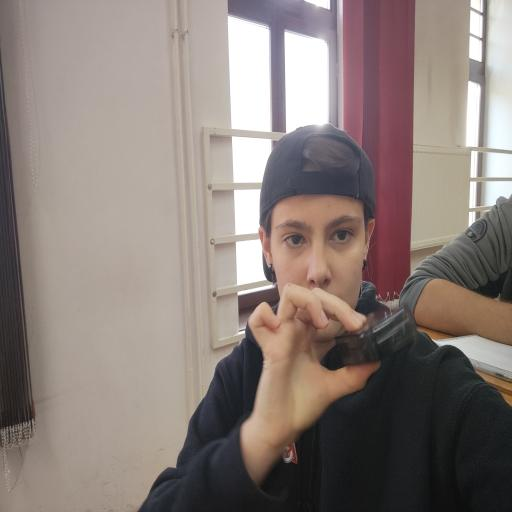Headphones: (331, 298, 423, 369)
